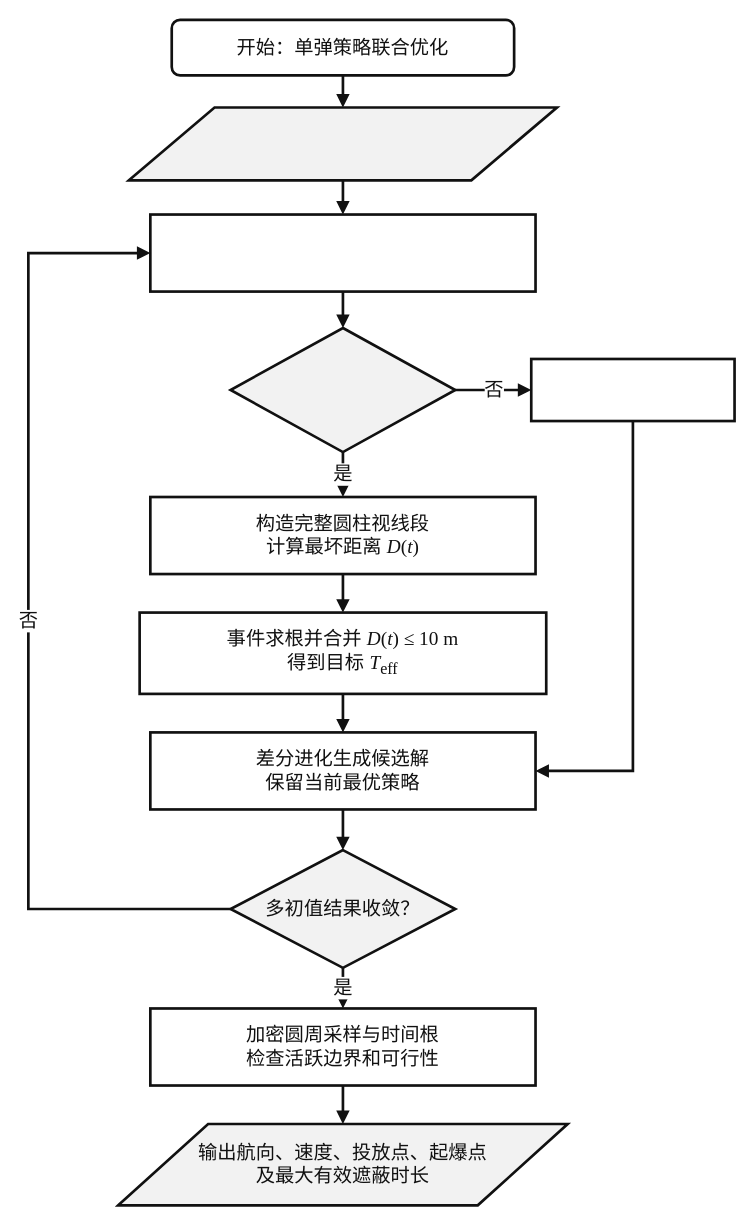
The diagram is 754 pixels wide and 1225 high, and some of its shapes have lost their labels. The box of each missing label's shape, as (x1, y1, x2, y2) in pixels:
编码 x = ( θ , v , t e , τ ) 反算投放与起爆位置: (149, 213, 536, 292)
计算越界惩罚: (529, 357, 735, 422)
输入问题一仿真器与 FY1、M1 运动约束: (127, 106, 558, 181)
速度、时序与高度 约束均满足？: (229, 326, 456, 453)
